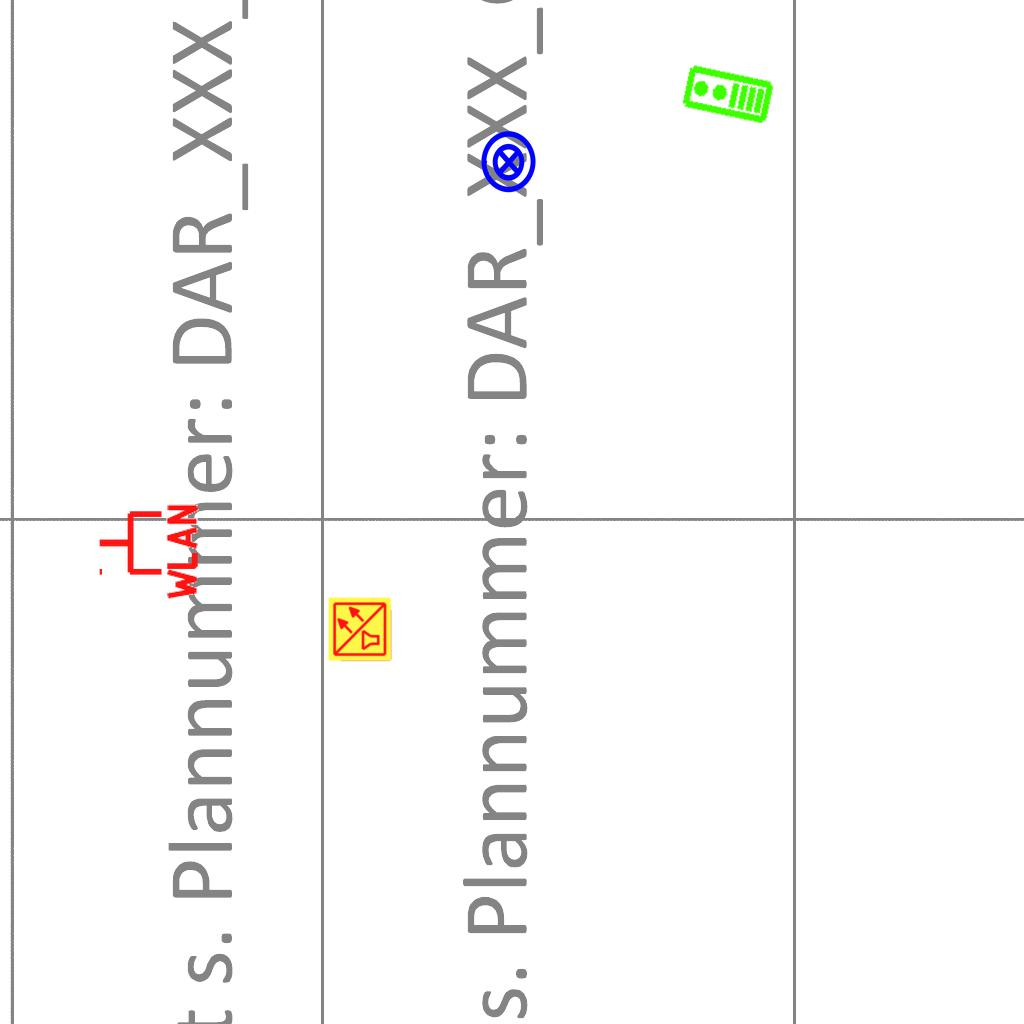Gegensprechanlage_mit_Video: (679, 62, 776, 128)
OKW_Multisensormelder_(Kombination_optischer_Rauch-Kahlenmonoxid_Waerme-Melder): (327, 596, 393, 662)
Taster_beleuchtet: (476, 129, 542, 195)
WLAN: (95, 500, 200, 604)
